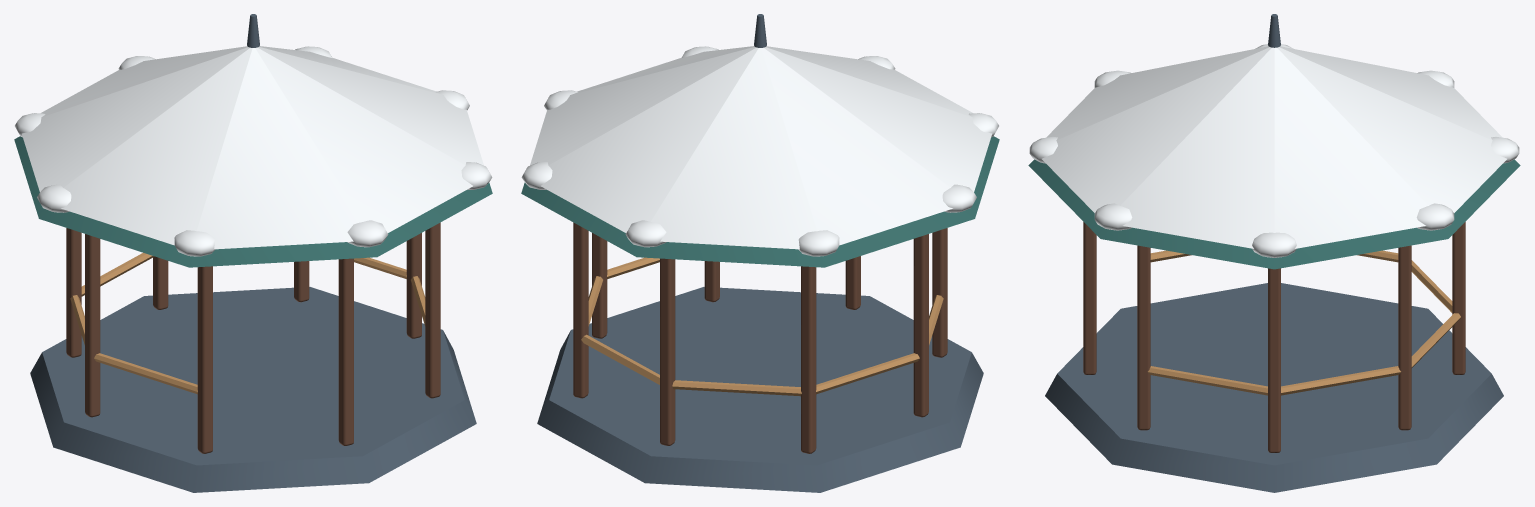
The model's file is alpine-snow-village-octagonal-winter-pavilion-5d3c3b0b__19784.glb.
3 views of the same model, side by side, from view 1: azimuth 30°, elevation 25°; view 2: azimuth 150°, elevation 25°; view 3: azimuth 270°, elevation 25° (orthographic).
Parts seen in each view (by area): view 1: octagonal-winter-pavilion-snow, octagonal-winter-pavilion-iron, octagonal-winter-pavilion-wood, octagonal-winter-pavilion-pine, octagonal-winter-pavilion-oak; view 2: octagonal-winter-pavilion-snow, octagonal-winter-pavilion-iron, octagonal-winter-pavilion-wood, octagonal-winter-pavilion-pine, octagonal-winter-pavilion-oak; view 3: octagonal-winter-pavilion-snow, octagonal-winter-pavilion-iron, octagonal-winter-pavilion-wood, octagonal-winter-pavilion-pine, octagonal-winter-pavilion-oak.
Boxes of the visible parts, x1,y1,x2,y2 form: octagonal-winter-pavilion-snow: (15,46,492,256); octagonal-winter-pavilion-iron: (30,14,476,492); octagonal-winter-pavilion-wood: (66,222,440,453); octagonal-winter-pavilion-pine: (14,136,492,267); octagonal-winter-pavilion-oak: (70,252,425,394); octagonal-winter-pavilion-snow: (521,46,998,256); octagonal-winter-pavilion-iron: (537,14,983,492); octagonal-winter-pavilion-wood: (573,222,947,453); octagonal-winter-pavilion-pine: (521,136,999,267); octagonal-winter-pavilion-oak: (581,257,943,396); octagonal-winter-pavilion-snow: (1029,44,1519,257); octagonal-winter-pavilion-iron: (1045,14,1503,492); octagonal-winter-pavilion-wood: (1083,222,1465,452); octagonal-winter-pavilion-pine: (1028,159,1520,269); octagonal-winter-pavilion-oak: (1148,250,1460,395).
Bounding box in the file's own units: 6 × 5.12 × 6.
